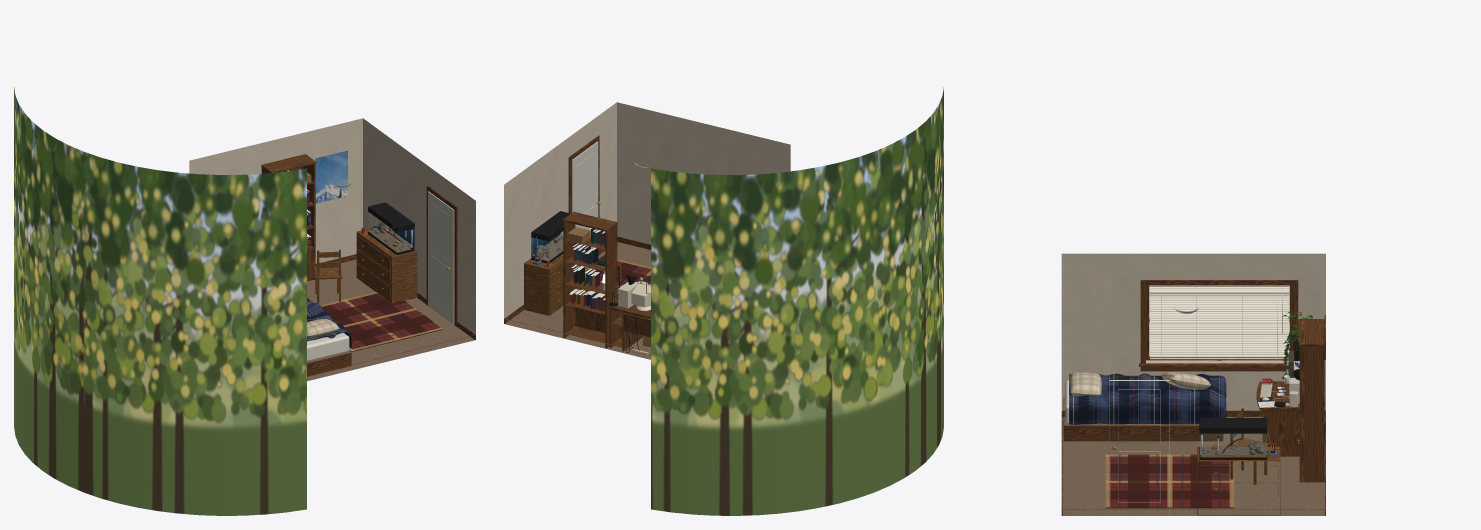
File: room.glb
3 renders of one model, left to right at view 1: azimuth 30°, elevation 25°; view 2: azimuth 150°, elevation 25°; view 3: azimuth 270°, elevation 25°, orthographic. The views are drawn at different scales.
Visible parts, largest first — view 1: fx_backdrop, atlas_A, atlas_H, atlas_F; view 2: fx_backdrop, atlas_A, atlas_H, atlas_B; view 3: atlas_A, atlas_C, atlas_E, atlas_F, atlas_H, atlas_B, atlas_D.
Part boxes in pixels (x1,y1,x2,y2): fx_backdrop: (14, 87, 306, 515); atlas_A: (189, 118, 475, 381); atlas_H: (361, 202, 414, 255); atlas_F: (307, 315, 351, 347); fx_backdrop: (651, 87, 943, 515); atlas_A: (504, 102, 790, 359); atlas_H: (531, 211, 576, 266); atlas_B: (558, 201, 650, 352); atlas_A: (1061, 253, 1325, 515); atlas_C: (1149, 285, 1289, 359); atlas_E: (1069, 371, 1226, 424); atlas_F: (1069, 372, 1225, 424); atlas_H: (1199, 418, 1276, 459); atlas_B: (1112, 317, 1325, 489); atlas_D: (1149, 287, 1289, 353).
Bounding box in the file's own units: 6.74 × 6 × 6.73.
72 materials, 30 textured.
